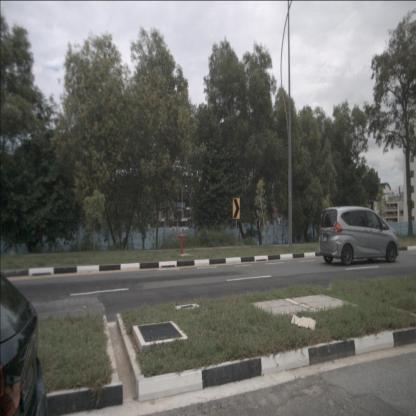vehicle-car: (0, 270, 51, 415), (318, 206, 399, 267)
